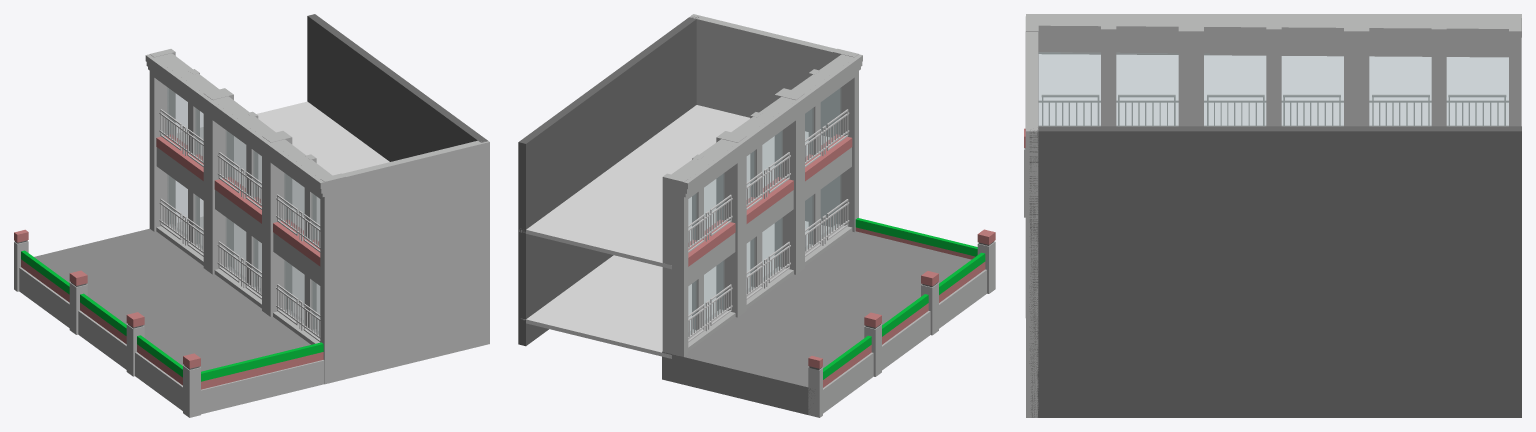
File: Corner_Ground_Front_Recessed_R.fbx
3 views of the same model, side by side, from view 1: azimuth 30°, elevation 25°; view 2: azimuth 150°, elevation 25°; view 3: azimuth 270°, elevation 25° (orthographic). The views are drawn at different scales.
Visible parts, largest first — view 1: Walls3, Floor_Outside, Inside_Wall, Floor_Inside, Railings, GlassWindows, Hedge4, Hedge5; view 2: Walls3, Floor_Inside, Floor_Outside, Inside_Wall, Railings, GlassWindows, Hedge4, Hedge5; view 3: Inside_Wall, Walls3, GlassWindows, Railings.
Part boxes in pixels (box(x1,y1,x2,y2)): Walls3: box(14, 49, 489, 417); Floor_Outside: box(34, 228, 310, 371); Inside_Wall: box(307, 14, 487, 161); Floor_Inside: box(177, 101, 389, 330); Railings: box(159, 109, 320, 341); GlassWindows: box(167, 88, 319, 334); Hedge4: box(14, 134, 323, 389); Hedge5: box(21, 250, 323, 381); Walls3: box(662, 14, 995, 417); Floor_Inside: box(519, 105, 831, 358); Floor_Outside: box(662, 231, 971, 415); Inside_Wall: box(518, 15, 698, 346); Railings: box(688, 109, 849, 342); GlassWindows: box(688, 88, 840, 334); Hedge4: box(688, 134, 995, 387); Hedge5: box(823, 218, 985, 379); Inside_Wall: box(1029, 126, 1521, 417); Walls3: box(1024, 14, 1521, 417); GlassWindows: box(1039, 52, 1508, 125); Railings: box(1038, 94, 1508, 126).
Bounding box in the file's own units: 39.76 × 25.55 × 40.15.
